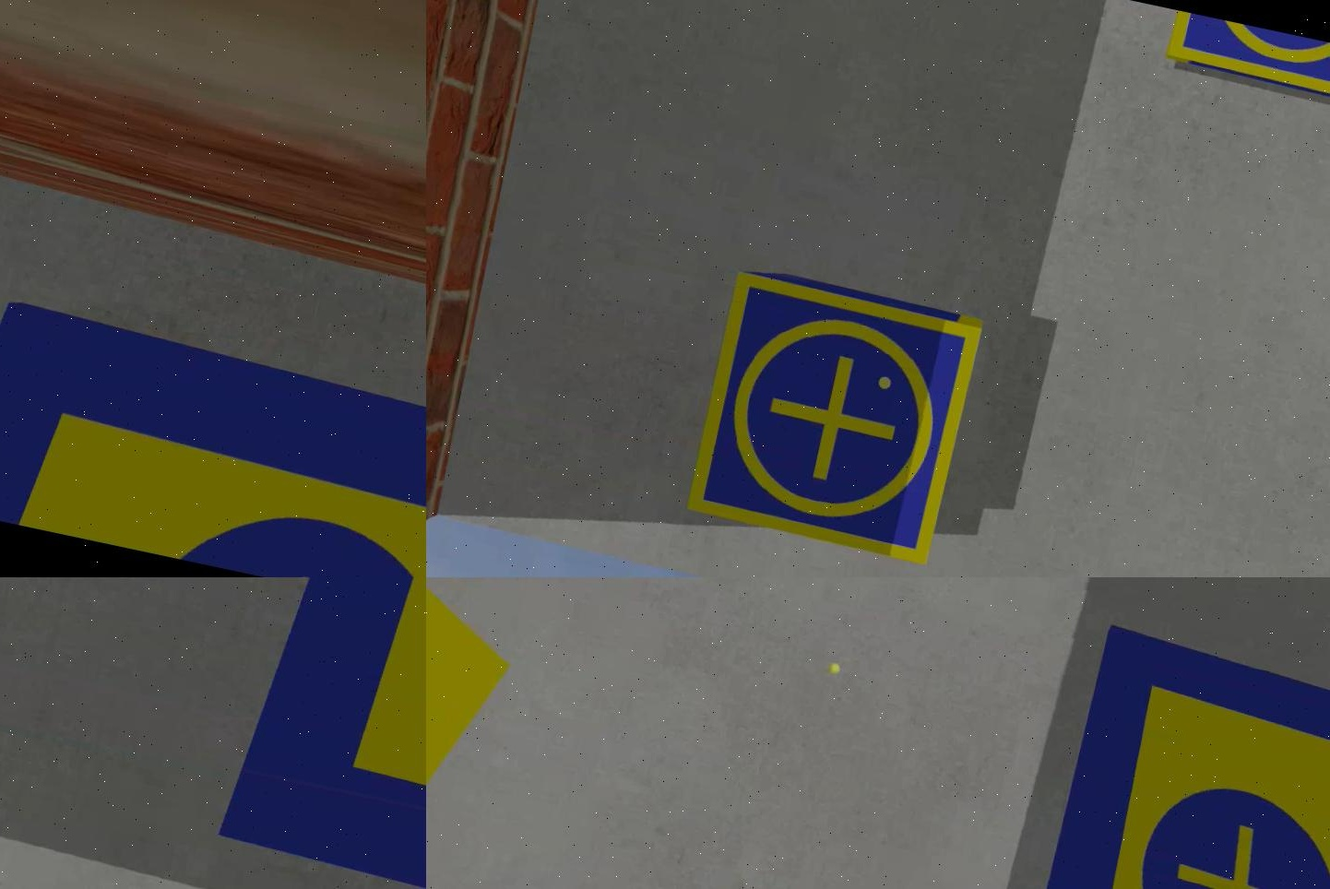large_base: (0, 295, 425, 578), (973, 619, 1328, 889), (209, 578, 425, 889)
small_base: (686, 273, 980, 571), (1164, 10, 1328, 111)
